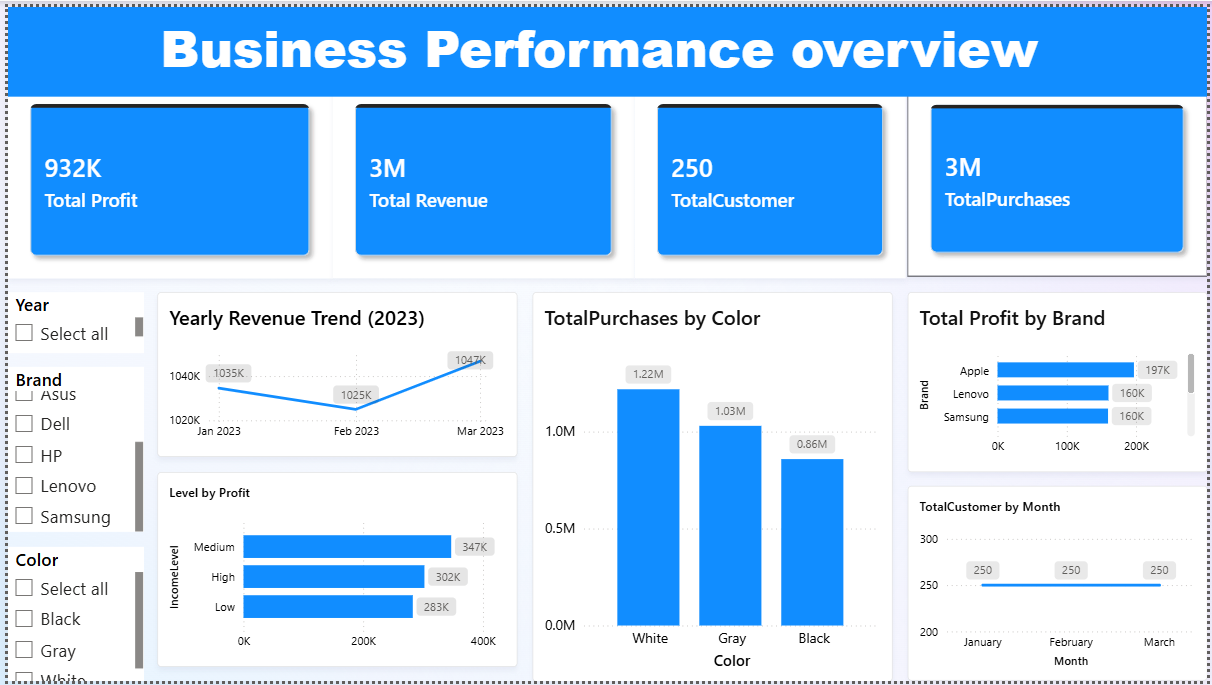

What the dashboard file says about the page in this screenshot:
{"tool":"powerbi","page":{"name":"Page 1","canvas":[1280,720],"ordinal":0},"visuals":[{"type":"clusteredBarChart","fields":{"Category":["Products.Brand"],"Y":["Sales.Total Profit"]},"box":[960,304,320,192],"z":0},{"type":"clusteredColumnChart","fields":{"Category":["Products.Color"],"Y":["Sales.TotalPurchases"]},"box":[560,304,384,416],"z":1000},{"type":"lineChart","title":"Yearly Revenue Trend (2023)","fields":{"Y":["Sales.Total Revenue"],"Category":["Sales.SaleDate.Variation.Date Hierarchy.Year","Sales.SaleDate.Variation.Date Hierarchy.Quarter","Sales.SaleDate.Variation.Date Hierarchy.Month"]},"box":[160,304,384,176],"z":2000},{"type":"lineChart","fields":{"Y":["Sales.TotalCustomer"],"Category":["Sales.SaleDate.Variation.Date Hierarchy.Month"]},"box":[960,512,320,208],"z":3000},{"type":"clusteredBarChart","title":"Level by Profit ","fields":{"Category":["Customers.IncomeLevel"],"Y":["Sales.Total Profit"]},"box":[160,496,384,208],"z":4000},{"type":"slicer","fields":{"Values":["Sales.SaleDate.Variation.Date Hierarchy.Year"]},"box":[0,304,144,64],"z":5000},{"type":"slicer","fields":{"Values":["Products.Brand"]},"box":[0,384,144,176],"z":6000},{"type":"slicer","fields":{"Values":["Products.Color"]},"box":[0,576,144,144],"z":7000},{"type":"cardVisual","fields":{"Data":["Sales.Total Profit"]},"box":[0,80,346.8,210],"z":8000},{"type":"cardVisual","fields":{"Data":["Sales.Total Revenue"]},"box":[346.8,79.8,322.4,210],"z":9000},{"type":"cardVisual","fields":{"Data":["Sales.TotalCustomer"]},"box":[669.1,79.8,289.8,210],"z":10000},{"type":"cardVisual","fields":{"Data":["Sales.TotalPurchases"]},"box":[960,80,320,208],"z":11000},{"type":"textbox","box":[0,0,1280,96],"z":12000}]}

Visuals, with their boxes in screenshot pixels (x1, y1, x2, y2), scaled from the page's 1280x720 canvas onto the 1212x685 screenshot:
clusteredBarChart - Products.Brand x Sales.Total Profit: {"left": 909, "top": 289, "right": 1211, "bottom": 472}
clusteredColumnChart - Products.Color x Sales.TotalPurchases: {"left": 530, "top": 289, "right": 894, "bottom": 684}
"Yearly Revenue Trend (2023)" lineChart: {"left": 152, "top": 289, "right": 515, "bottom": 457}
lineChart - Sales.TotalCustomer x Sales.SaleDate.Variation.Date Hierarchy.Month: {"left": 909, "top": 487, "right": 1211, "bottom": 684}
"Level by Profit " clusteredBarChart: {"left": 152, "top": 472, "right": 515, "bottom": 670}
slicer - Sales.SaleDate.Variation.Date Hierarchy.Year: {"left": 0, "top": 289, "right": 136, "bottom": 350}
slicer - Products.Brand: {"left": 0, "top": 365, "right": 136, "bottom": 533}
slicer - Products.Color: {"left": 0, "top": 548, "right": 136, "bottom": 684}
cardVisual - Sales.Total Profit: {"left": 0, "top": 76, "right": 328, "bottom": 276}
cardVisual - Sales.Total Revenue: {"left": 328, "top": 76, "right": 634, "bottom": 276}
cardVisual - Sales.TotalCustomer: {"left": 634, "top": 76, "right": 908, "bottom": 276}
cardVisual - Sales.TotalPurchases: {"left": 909, "top": 76, "right": 1211, "bottom": 274}
textbox: {"left": 0, "top": 0, "right": 1211, "bottom": 91}
